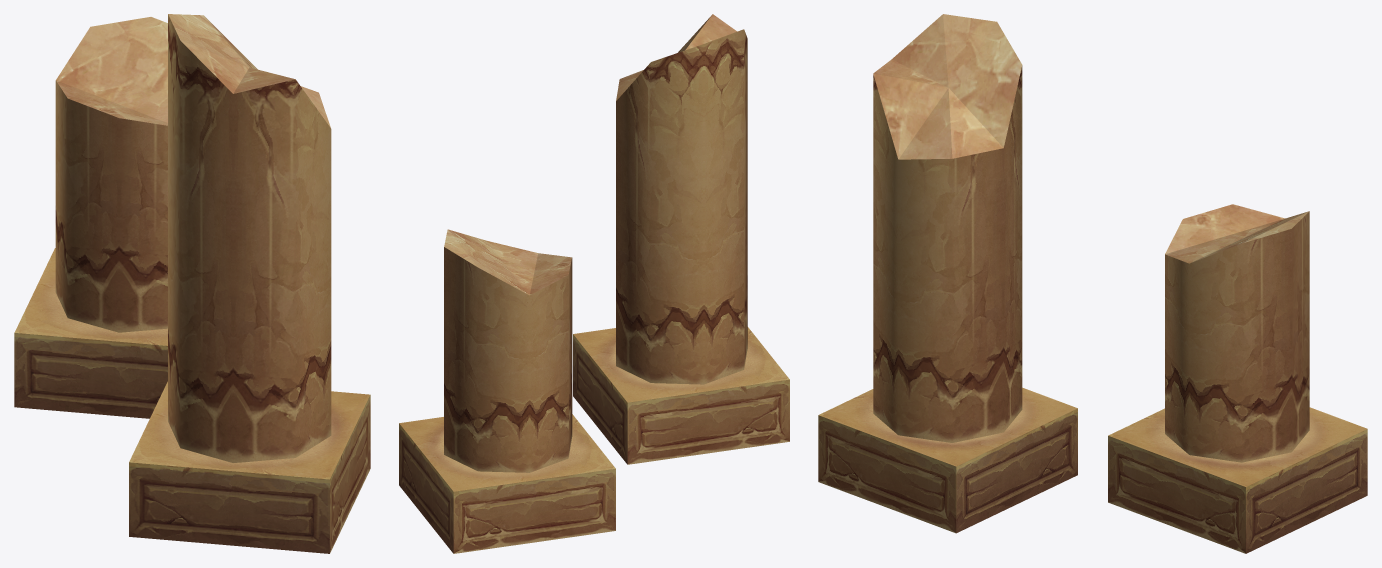
File: Area_06_34.fbx
The picture shows the model from 3 angles, left to right: view 1: azimuth 30°, elevation 25°; view 2: azimuth 150°, elevation 25°; view 3: azimuth 270°, elevation 25°; orthographic projection. The views are drawn at different scales.
Parts seen in each view (by area): view 1: Area_06_34; view 2: Area_06_34; view 3: Area_06_34.
Boxes of the visible parts, <box> form: Area_06_34: <box>14,14,370,553</box>; Area_06_34: <box>399,14,789,553</box>; Area_06_34: <box>818,14,1367,553</box>.
Size of the model in its own units: 228 by 353 by 406.
